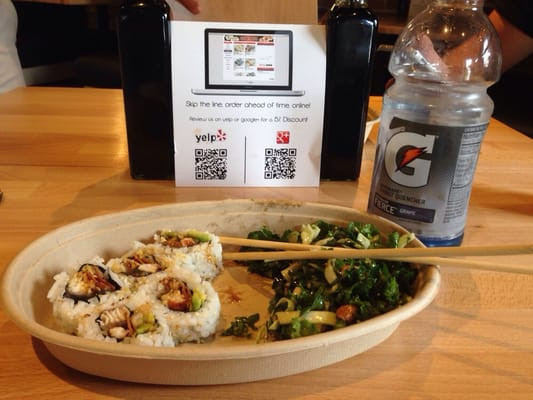burger: (367, 0, 504, 248), (320, 0, 378, 182), (117, 0, 175, 181)
curry: (1, 78, 509, 399)
